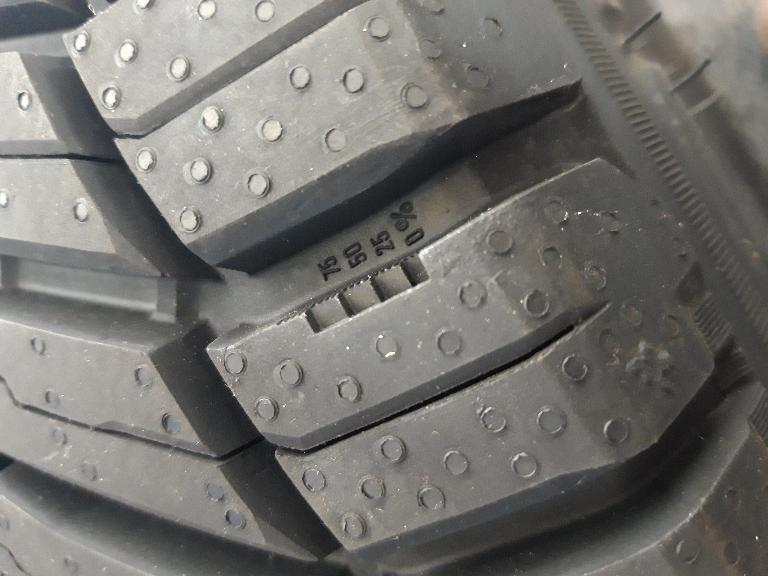temoin:100: (274, 248, 434, 338)
